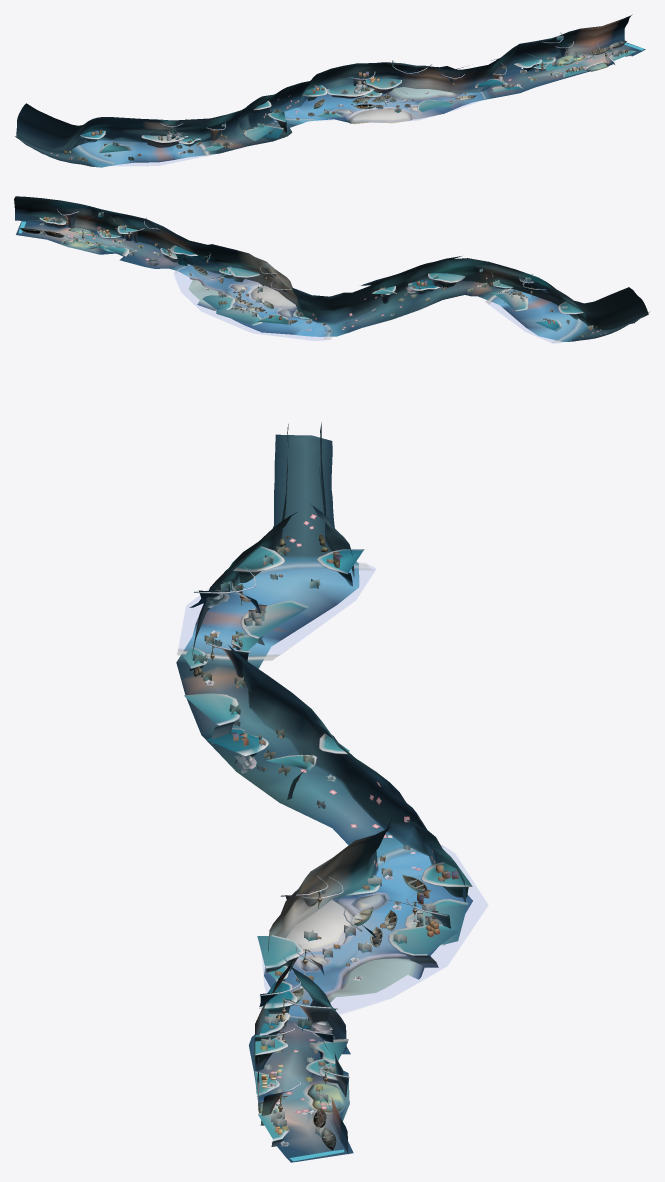
Rendered from 04Grotto.gltf.
3 renders of one model, top to bottom at view 1: azimuth 30°, elevation 25°; view 2: azimuth 150°, elevation 25°; view 3: azimuth 270°, elevation 25°, orthographic. The views are drawn at different scales.
Parts seen in each view (by area): view 1: stg050_o10_Mesh_0035, stg050_o10_Mesh_0050, stg050_w11_Mesh_0001, stg050_o10_Mesh_0056, stg050_p10_Mesh_0001, stg050_o10_Mesh_0054, stg050_a10_Mesh_0015, stg050_o10_Mesh_0015, stg050_ripple_k_11_Mesh_0000, stg050_p10_Mesh_0000; view 2: stg050_o10_Mesh_0035, stg050_o10_Mesh_0050, stg050_w11_Mesh_0001, stg050_o10_Mesh_0056, stg050_p10_Mesh_0001, stg050_a10_Mesh_0015, stg050_o10_Mesh_0054, stg050_ripple_k_11_Mesh_0000, stg050_o10_Mesh_0015, stg050_p10_Mesh_0000; view 3: stg050_o10_Mesh_0050, stg050_o10_Mesh_0035, stg050_w11_Mesh_0001, stg050_o10_Mesh_0056, stg050_p10_Mesh_0001, stg050_o10_Mesh_0015, stg050_o10_Mesh_0054, stg050_a10_Mesh_0015, stg050_ripple_k_11_Mesh_0000.
Part boxes in pixels (x1,y1,x2,y2): stg050_o10_Mesh_0035: (16,14,632,152); stg050_o10_Mesh_0050: (15,32,645,167); stg050_w11_Mesh_0001: (80,87,483,165); stg050_o10_Mesh_0056: (332,54,607,123); stg050_p10_Mesh_0001: (80,80,440,161); stg050_o10_Mesh_0054: (313,41,626,109); stg050_a10_Mesh_0015: (16,40,625,152); stg050_o10_Mesh_0015: (91,48,629,140); stg050_ripple_k_11_Mesh_0000: (75,91,486,164); stg050_p10_Mesh_0000: (505,35,624,89); stg050_o10_Mesh_0035: (14,196,648,331); stg050_o10_Mesh_0050: (16,208,649,341); stg050_w11_Mesh_0001: (174,266,577,343); stg050_o10_Mesh_0056: (63,227,296,317); stg050_p10_Mesh_0001: (218,274,593,329); stg050_a10_Mesh_0015: (22,220,646,329); stg050_o10_Mesh_0054: (20,228,297,323); stg050_ripple_k_11_Mesh_0000: (174,264,583,342); stg050_o10_Mesh_0015: (43,216,554,324); stg050_p10_Mesh_0000: (40,211,171,255); stg050_o10_Mesh_0050: (176,434,472,1162); stg050_o10_Mesh_0035: (189,422,468,1154); stg050_w11_Mesh_0001: (179,566,487,1017); stg050_o10_Mesh_0056: (258,893,423,1113); stg050_p10_Mesh_0001: (192,545,435,981); stg050_o10_Mesh_0015: (212,551,458,1134); stg050_o10_Mesh_0054: (290,875,427,1150); stg050_a10_Mesh_0015: (236,435,432,1150); stg050_ripple_k_11_Mesh_0000: (177,561,443,1018).
Size of the model in its own units: 428 by 68.44 by 91.78.
